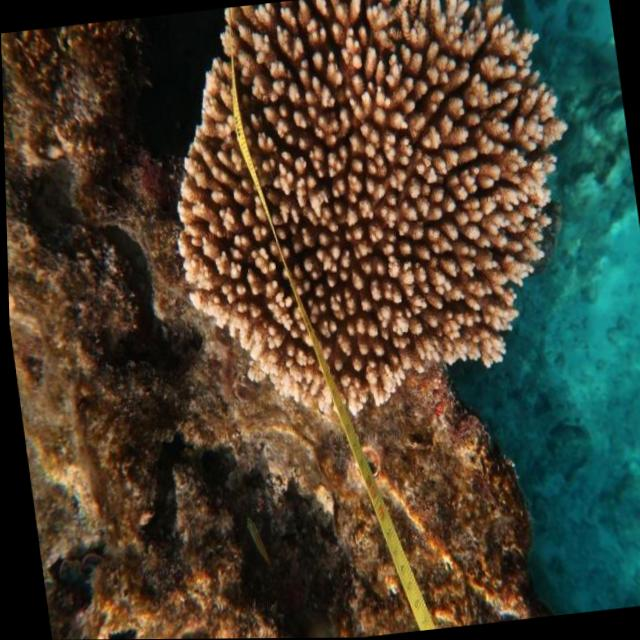Healthy Coral: (162, 0, 557, 428)
